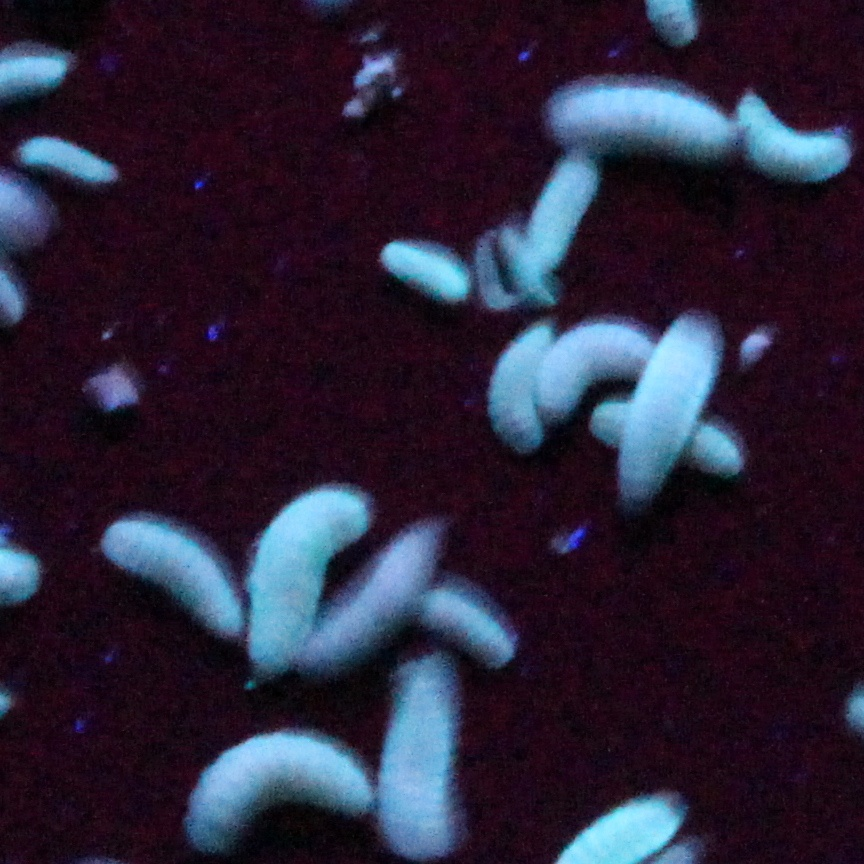larve: (248, 487, 370, 667), (182, 733, 370, 849), (307, 530, 434, 665), (624, 314, 716, 494), (102, 521, 240, 635), (378, 667, 451, 857), (550, 89, 735, 150), (589, 403, 740, 477), (538, 322, 655, 409), (739, 95, 849, 180), (527, 157, 598, 273), (489, 326, 555, 445), (422, 589, 510, 667), (380, 242, 467, 300), (19, 138, 115, 183)
